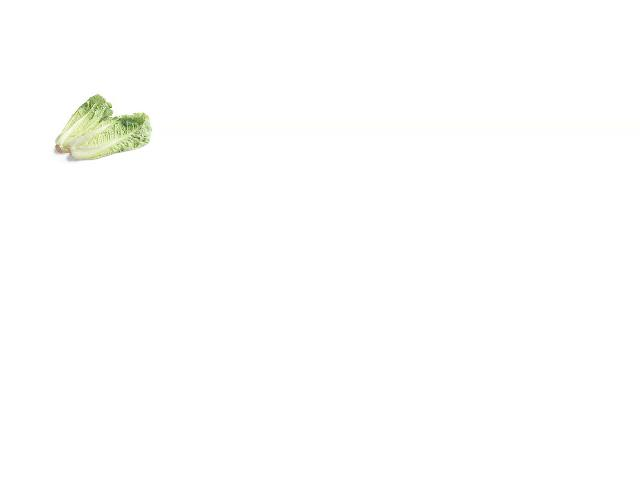lettuce: (50, 93, 113, 155)
